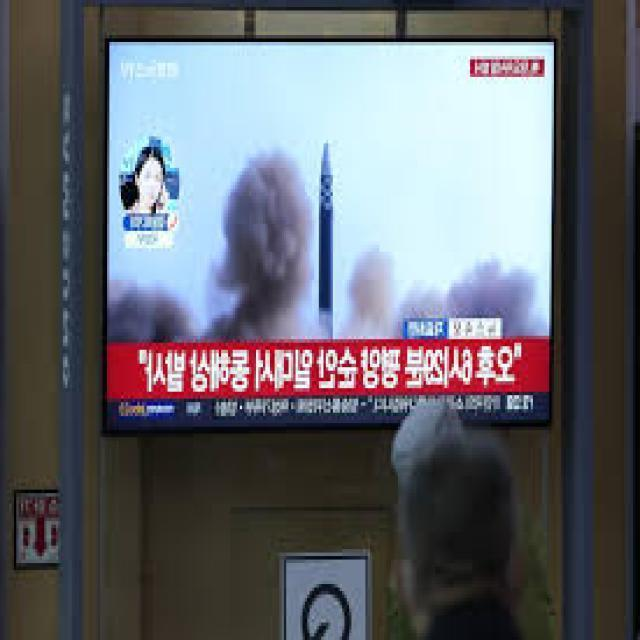Missile: (314, 131, 338, 331)
